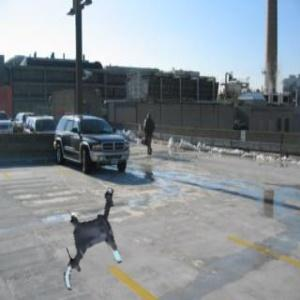drone: (44, 196, 143, 295)
